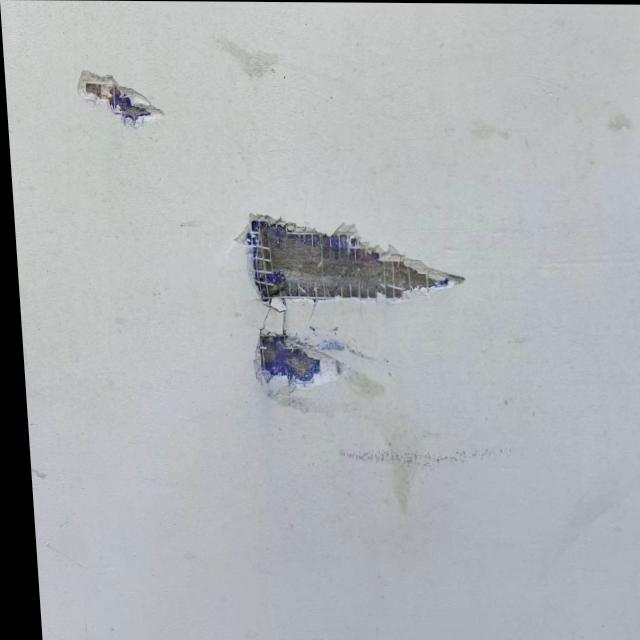spalling: (230, 209, 478, 418), (73, 67, 166, 132)
